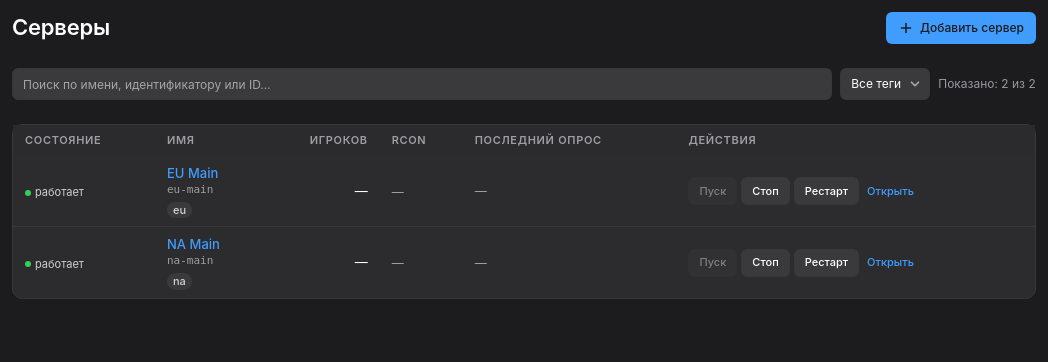
ServersPage › фильтр без совпадений даёт отдельное пустое состояние и сброс
The width and height of the screenshot is (1048, 362).
Expected: the link "EU Main" is shown, top-left (167, 165), bottom-right (218, 181)
Type "нет-такого-сервера" into the search field named "Поиск серверов".
click(422, 84); type("нет-такого-сервера")  # box top-left (12, 68), bottom-right (832, 100)
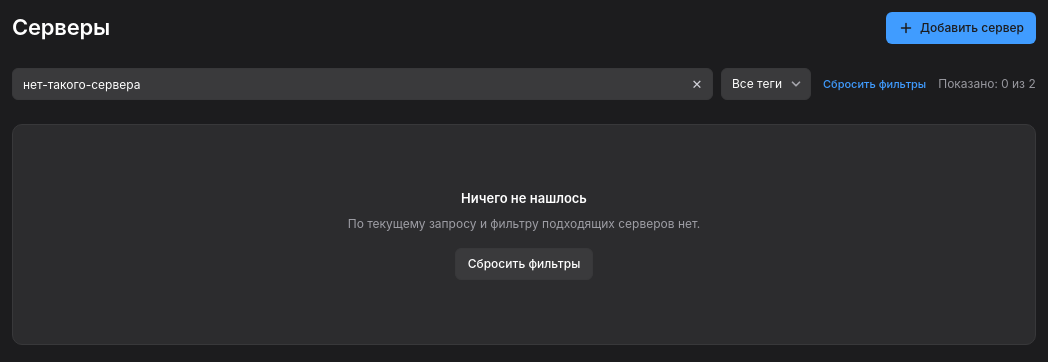
Click the button "Сбросить фильтры" next to "Показано: 0 из 2".
click(875, 84)  # box top-left (819, 70), bottom-right (930, 98)
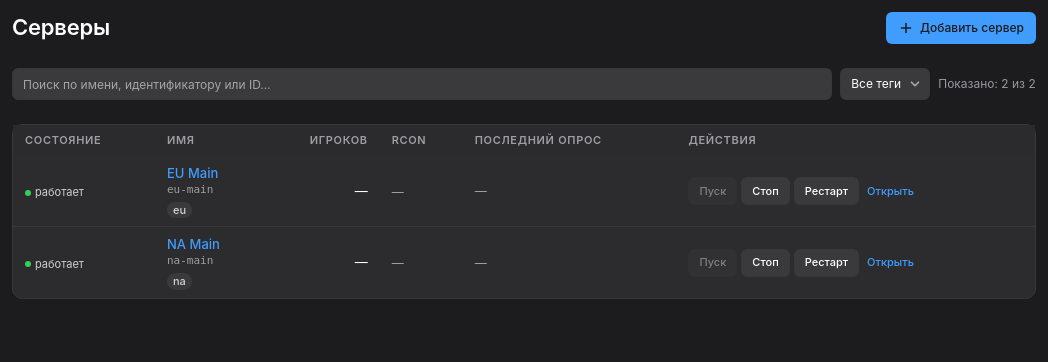
Expected: the link "EU Main" is shown, top-left (167, 165), bottom-right (218, 181)
